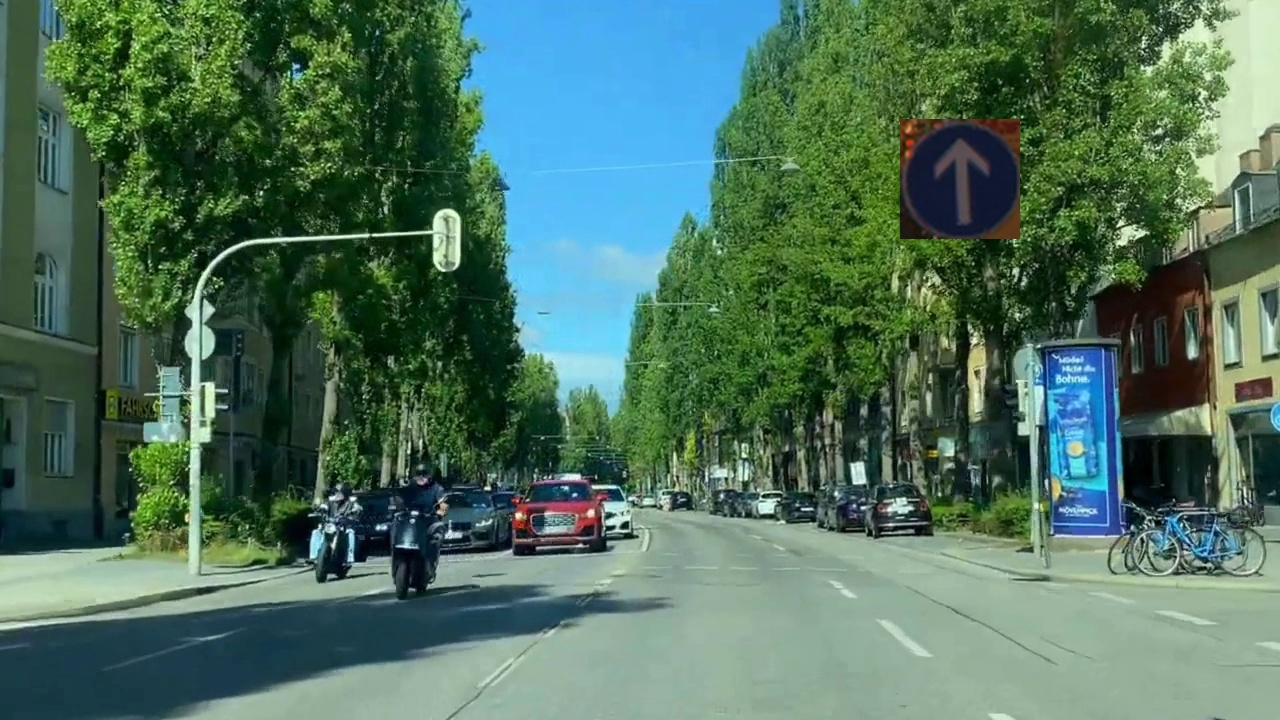Ahead only: (900, 119, 1020, 239)
